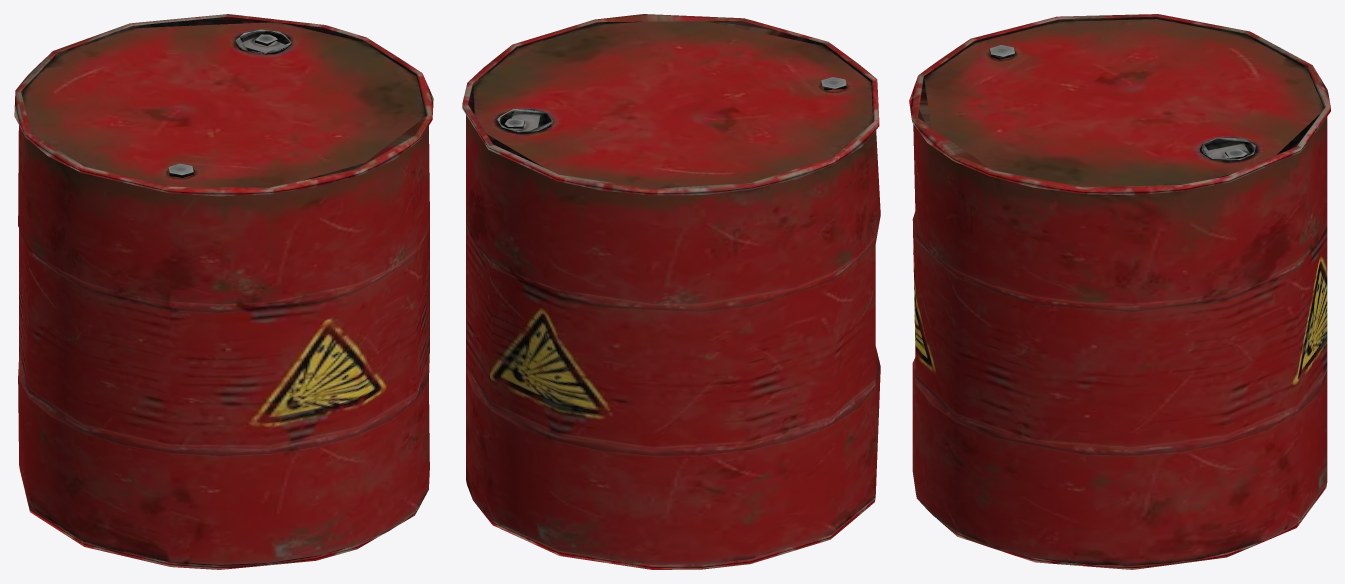
File: barrel.glb
3 views of the same model, side by side, from view 1: azimuth 30°, elevation 25°; view 2: azimuth 150°, elevation 25°; view 3: azimuth 270°, elevation 25° (orthographic).
Visible parts, largest first — view 1: Barrel_01; view 2: Barrel_01; view 3: Barrel_01.
Boxes of the visible parts, x1,y1,x2,y2 form: Barrel_01: [14, 14, 433, 569]; Barrel_01: [462, 14, 880, 569]; Barrel_01: [909, 14, 1330, 569].
Size of the model in its own units: 1 by 1 by 1.
1 material, 1 textured.
